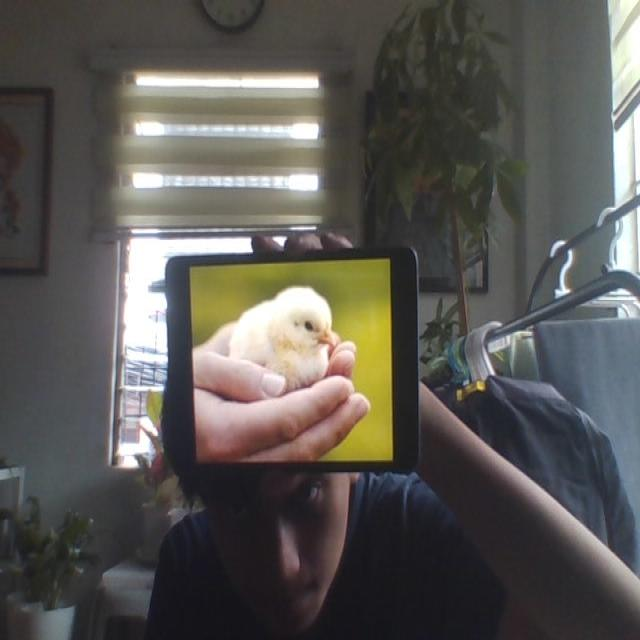Healthy: (230, 289, 338, 405)
